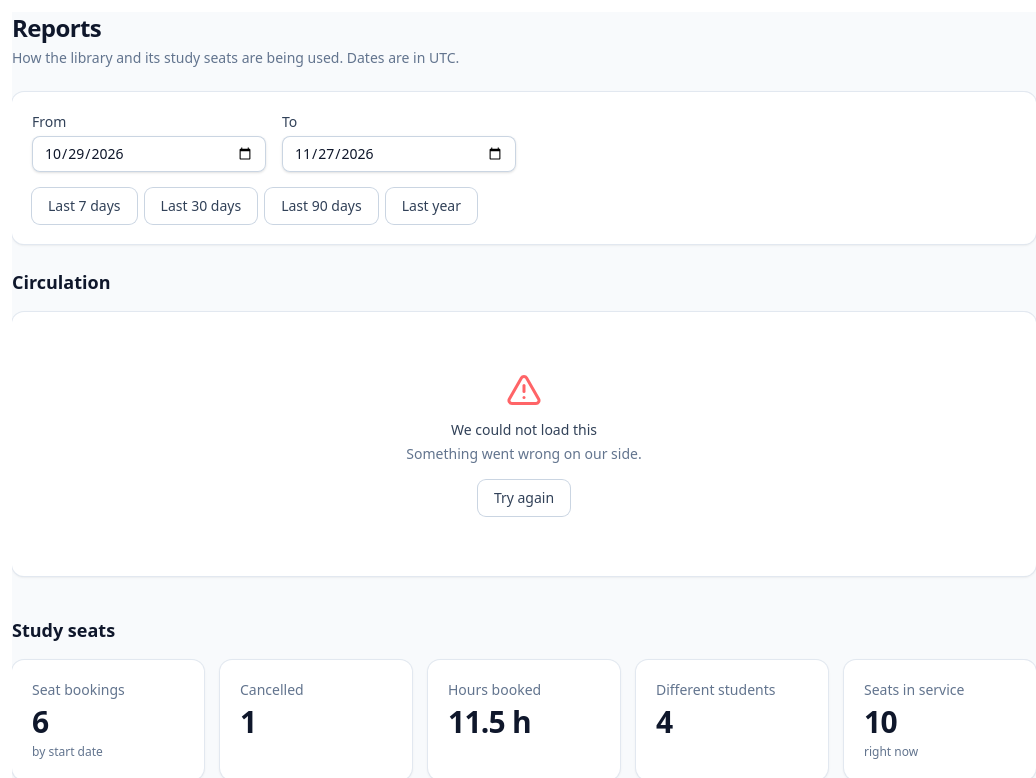
Test case: AdminReportsPage › fails one report without hiding the other, and retries
Expected: the text "Something went wrong on our side." is shown, [406, 444, 642, 464]
Expected: the text "Seat bookings" is shown, [32, 680, 125, 699]
Click the button "Try again" at x=524, y=498, box [478, 480, 570, 516]
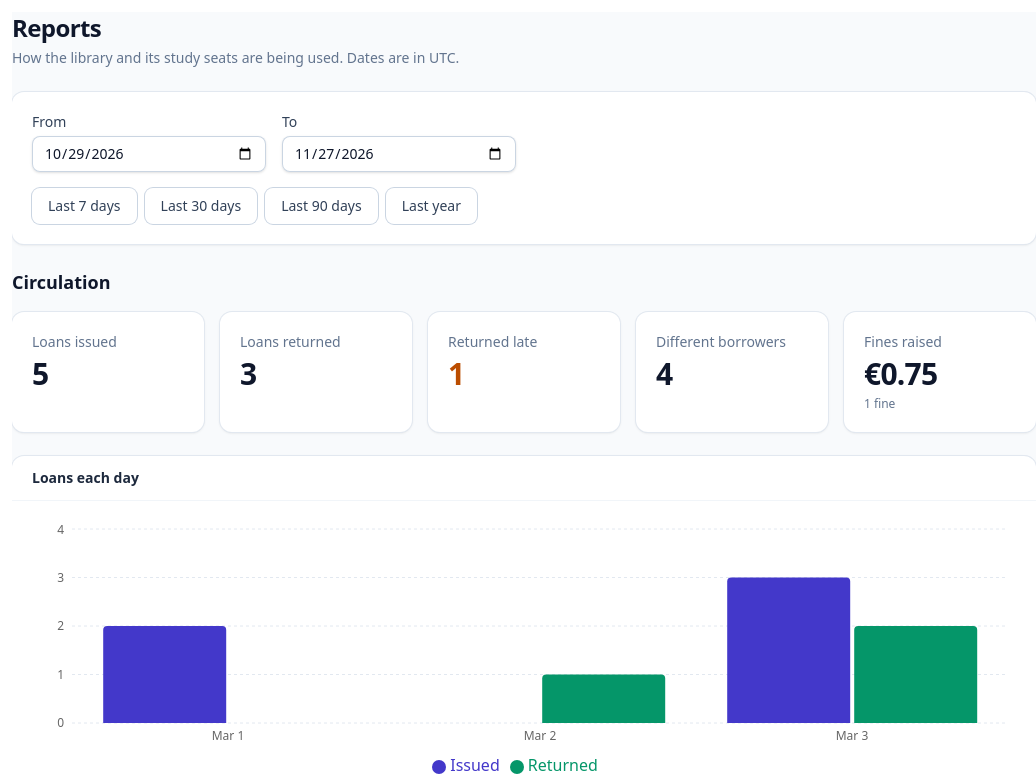
Now the text "Loans issued" is shown, box [32, 332, 117, 351]
